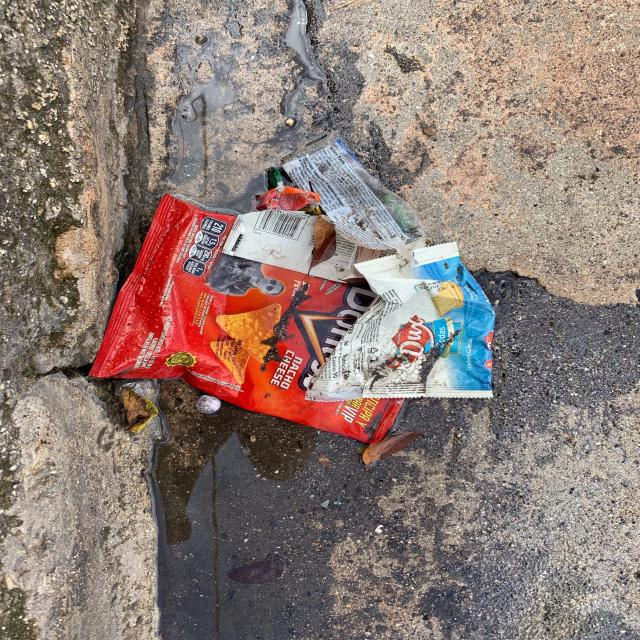litter: (82, 189, 411, 453), (219, 138, 433, 294), (301, 243, 499, 400)
